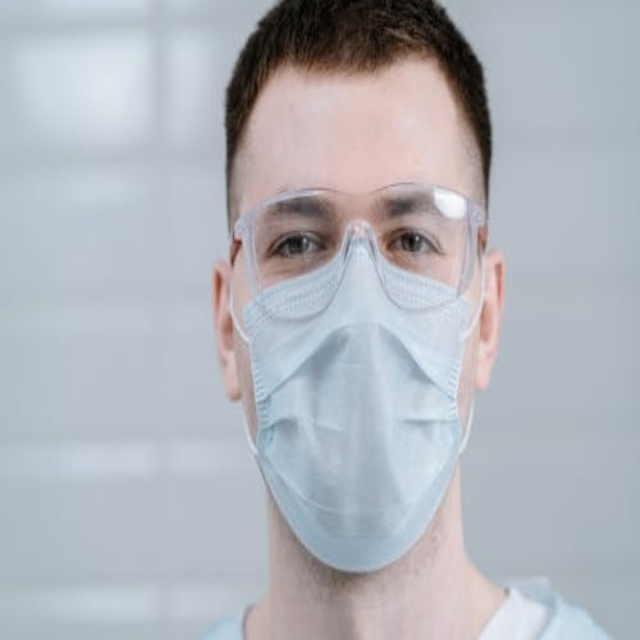Gafas: (232, 182, 486, 314)
Mascara: (232, 194, 484, 574)
